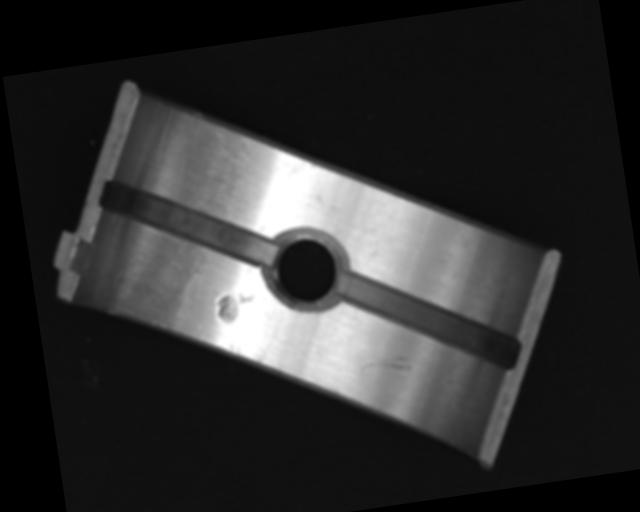bruise: (214, 290, 258, 326)
gap: (337, 249, 519, 392), (97, 160, 278, 288)
hole: (264, 224, 348, 317)
nick: (354, 351, 413, 379)
